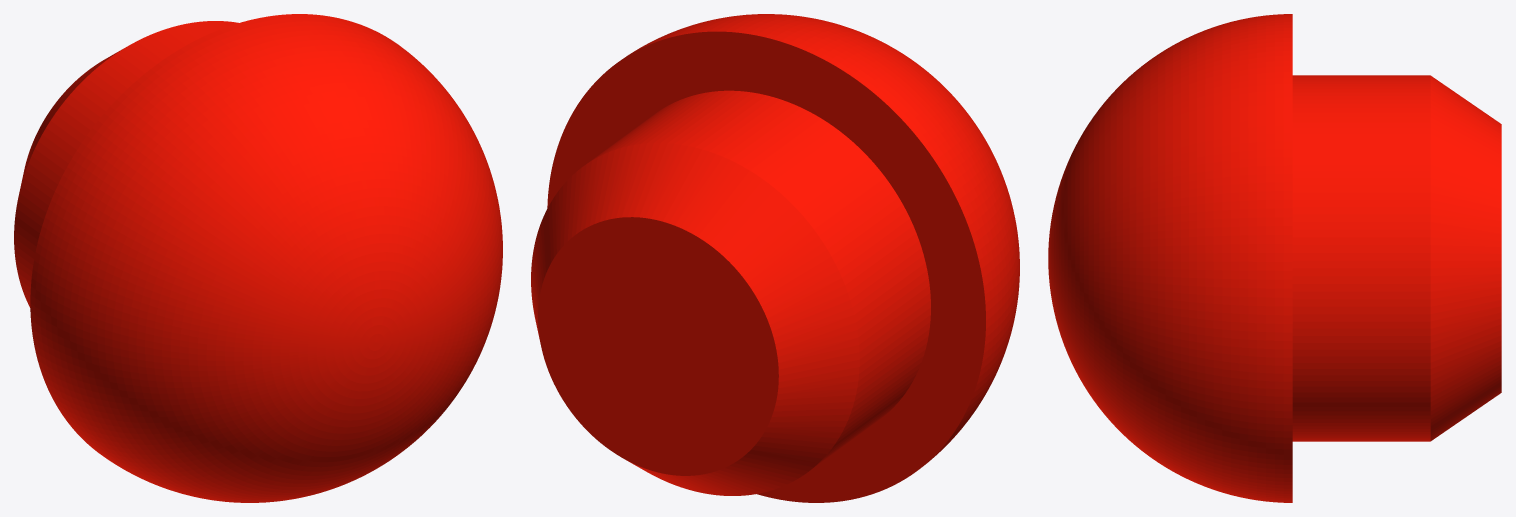
Rendered from Cap.fbx.
3 renders of one model, left to right at view 1: azimuth 30°, elevation 25°; view 2: azimuth 150°, elevation 25°; view 3: azimuth 270°, elevation 25°, orthographic. The views are drawn at different scales.
Visible parts, largest first — view 1: Cap; view 2: Cap; view 3: Cap.
Boxes of the visible parts, x1=… form: Cap: x1=14, y1=14, x2=502, y2=502; Cap: x1=531, y1=14, x2=1019, y2=502; Cap: x1=1048, y1=14, x2=1501, y2=502.
Bounding box in the file's own units: 2.68 × 2.68 × 2.49.
